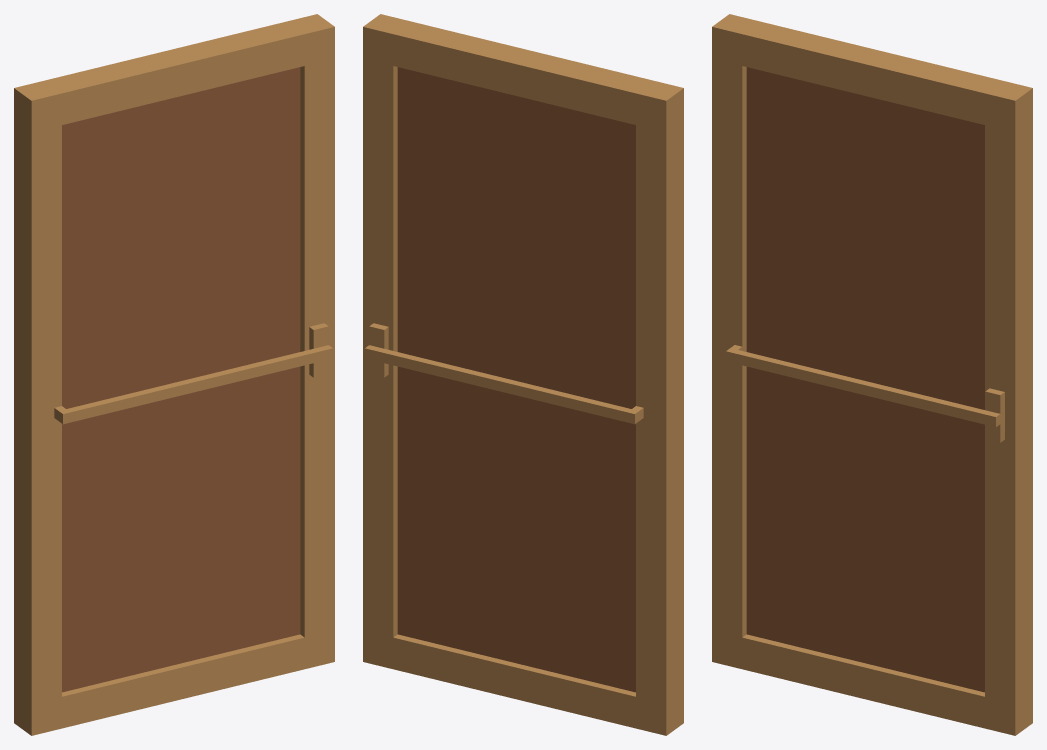
File: Door.fbx
3 renders of one model, left to right at view 1: azimuth 30°, elevation 25°; view 2: azimuth 150°, elevation 25°; view 3: azimuth 330°, elevation 25°, orthographic.
Visible parts, largest first — view 1: Door; view 2: Door; view 3: Door.
Part boxes in pixels (x1,y1,x2,y2): Door: (14, 14, 334, 735); Door: (363, 14, 683, 735); Door: (712, 14, 1032, 735).
Size of the model in its own units: 200 by 400 by 40.
